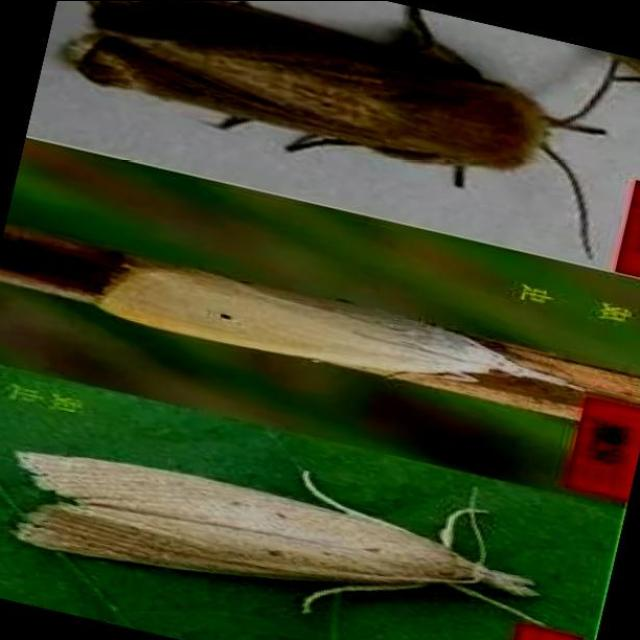stem borer: (68, 0, 640, 256), (0, 227, 590, 419), (18, 452, 550, 630)
